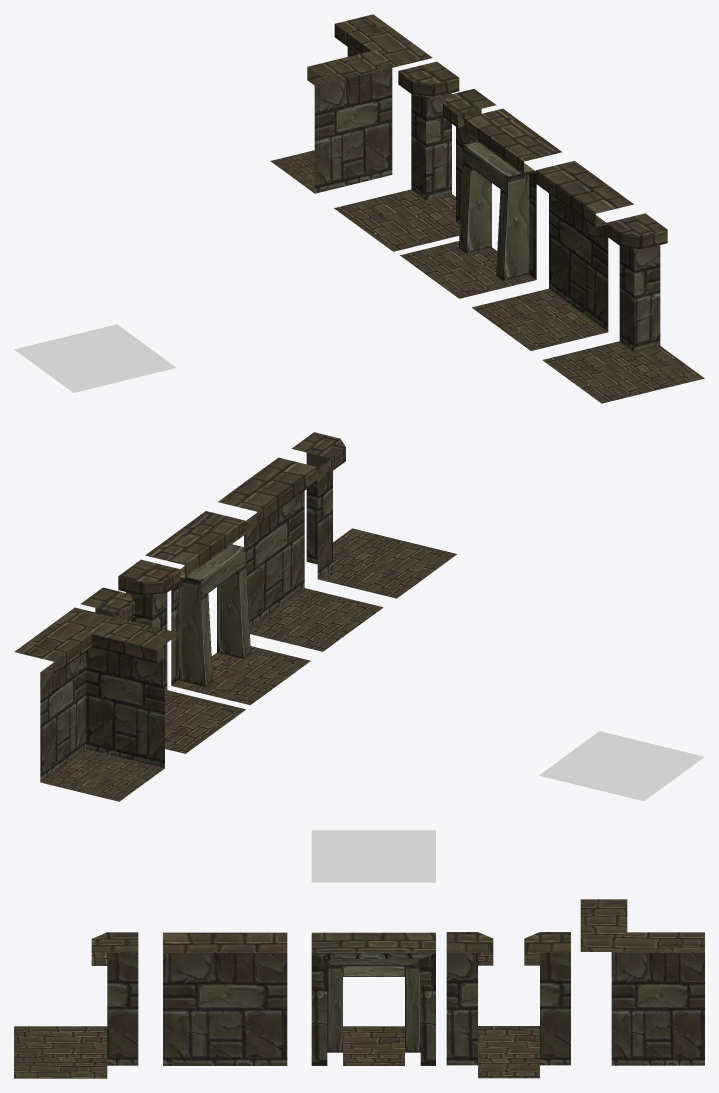
The model's file is MaxExportedFBXFile.fbx.
3 views of the same model, one above another, from view 1: azimuth 30°, elevation 25°; view 2: azimuth 150°, elevation 25°; view 3: azimuth 270°, elevation 25° (orthographic). The views are drawn at different scales.
Visible parts, largest first — view 1: doorway, corner_001, wall_001, Plane003, pole001, Plane001; view 2: corner_001, doorway, wall_001, pole001, Plane003, Plane001; view 3: wall_001, corner_001, doorway, Plane003, pole001, Plane001.
Part boxes in pixels (box(x1,y1,x2,y2)): doorway: box(400, 108, 562, 298); corner_001: box(270, 14, 432, 193); wall_001: box(472, 161, 633, 350); Plane003: box(334, 61, 496, 251); pole001: box(542, 213, 704, 403); Plane001: box(14, 324, 176, 392); corner_001: box(14, 607, 179, 801); doorway: box(145, 511, 310, 705); wall_001: box(218, 457, 383, 651); pole001: box(291, 432, 457, 598); Plane003: box(80, 559, 245, 753); Plane001: box(539, 731, 704, 801); wall_001: box(163, 932, 287, 1065); corner_001: box(580, 899, 704, 1065); doorway: box(311, 932, 435, 1065); Plane003: box(446, 932, 570, 1078); pole001: box(14, 932, 138, 1078); Plane001: box(311, 830, 435, 882).
Size of the model in its own units: 190 by 45 by 222.
1 material, 1 textured.
